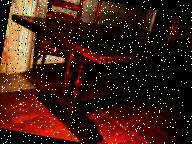Mesa: (0, 6, 191, 143)
Silla: (31, 0, 87, 85)
